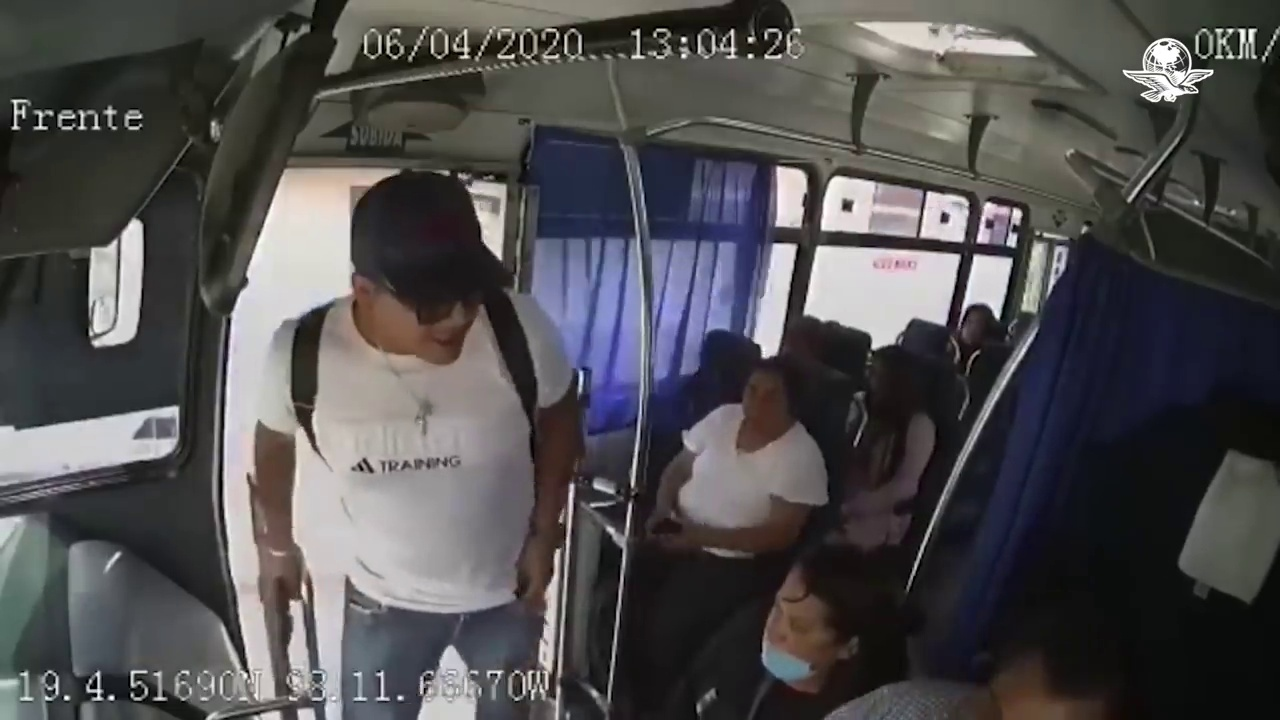pistol: (267, 567, 300, 667)
